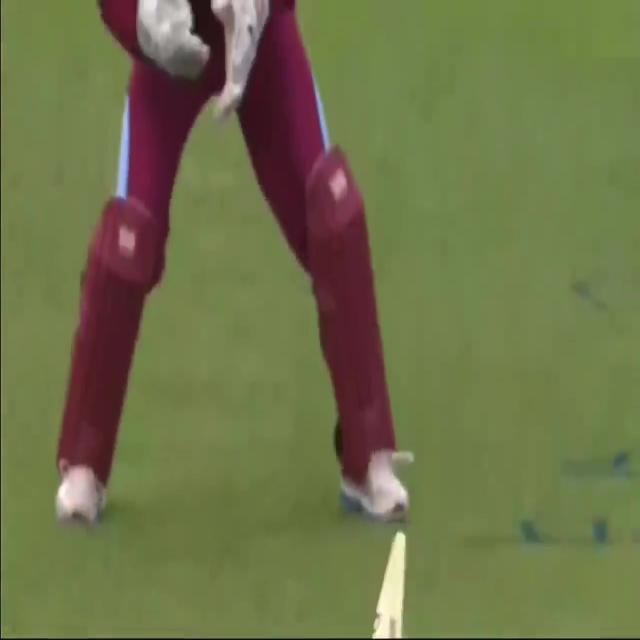Fielder: (48, 0, 413, 524)
